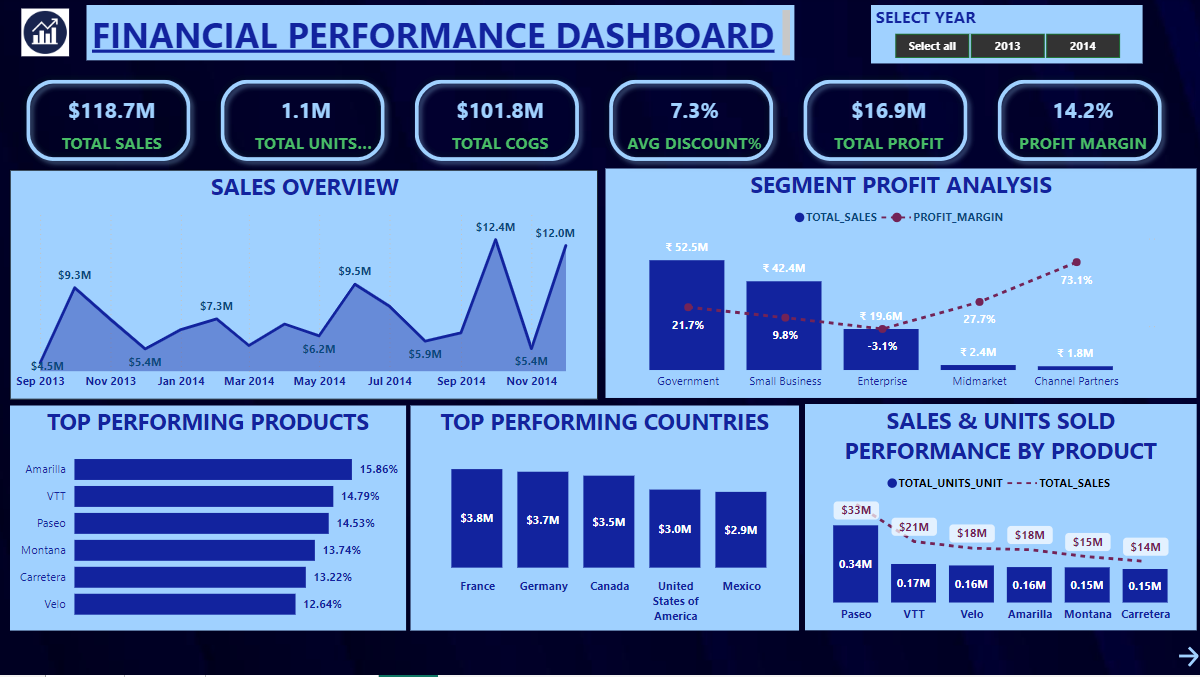

This screenshot's page, from the dashboard's own definition file:
{"tool":"powerbi","page":{"name":"P1","canvas":[1280,720],"ordinal":0},"visuals":[{"type":"textbox","box":[97,9.5,750.8,58.9],"z":0},{"type":"lineChart","title":"SALES OVERVIEW","fields":{"Category":["financials.Date"],"Y":["financials.TOTAL_SALES"]},"box":[15.9,184.5,623.5,243.4],"z":1000},{"type":"image","box":[16.2,8.1,74.9,60.8],"z":2000},{"type":"clusteredBarChart","title":"TOP PERFORMING PRODUCTS","fields":{"Category":["financials.Product"],"Y":["financials.PROFIT_MARGIN"]},"box":[15.9,434.2,419.9,238.6],"z":3000},{"type":"lineStackedColumnComboChart","title":"SEGMENT PROFIT ANALYSIS","fields":{"Category":["financials.Segment"],"Y":["financials.TOTAL_SALES"],"Y2":["financials.PROFIT_MARGIN"]},"box":[647.4,182.9,626.7,243.4],"z":4000},{"type":"slicer","title":"SELECT YEAR","fields":{"Values":["financials.Year"]},"box":[928.9,9.5,287.9,62],"z":5000},{"type":"clusteredColumnChart","title":"TOP PERFORMING COUNTRIES","fields":{"Category":["financials.Country"],"Y":["financials.TOTAL_PROFIT"]},"box":[440.6,434.2,412,238.6],"z":6000},{"type":"cardVisual","fields":{"Data":["financials.TOTAL_SALES","financials.TOTAL_UNITS_UNIT","financials.TOTAL_COGS","Avg(financials.DIS%)","financials.TOTAL_PROFIT","financials.PROFIT_MARGIN"]},"box":[15.9,71.6,1243.9,120.9],"z":7000},{"type":"actionButton","box":[1250.2,680.8,30.2,39.8],"z":8000},{"type":"lineStackedColumnComboChart","title":"SALES & UNITS SOLD PERFORMANCE BY PRODUCT","fields":{"Y2":["financials.TOTAL_SALES"],"Category":["financials.Product"],"Y":["financials.TOTAL_UNITS_UNIT"]},"box":[858.9,432.6,415.1,240.2],"z":9000}]}

Visuals, with their boxes in screenshot pixels (x1, y1, x2, y2), scaled from the page's 1280x720 canvas onto the 1200x677 screenshot:
textbox: (91,9,795,64)
"SALES OVERVIEW" lineChart: (15,173,599,402)
image: (15,8,85,65)
"TOP PERFORMING PRODUCTS" clusteredBarChart: (15,408,409,633)
"SEGMENT PROFIT ANALYSIS" lineStackedColumnComboChart: (607,172,1194,401)
"SELECT YEAR" slicer: (871,9,1141,67)
"TOP PERFORMING COUNTRIES" clusteredColumnChart: (413,408,799,633)
cardVisual - financials.TOTAL_SALES x financials.TOTAL_UNITS_UNIT: (15,67,1181,181)
actionButton: (1172,640,1199,676)
"SALES & UNITS SOLD PERFORMANCE BY PRODUCT" lineStackedColumnComboChart: (805,407,1194,633)
